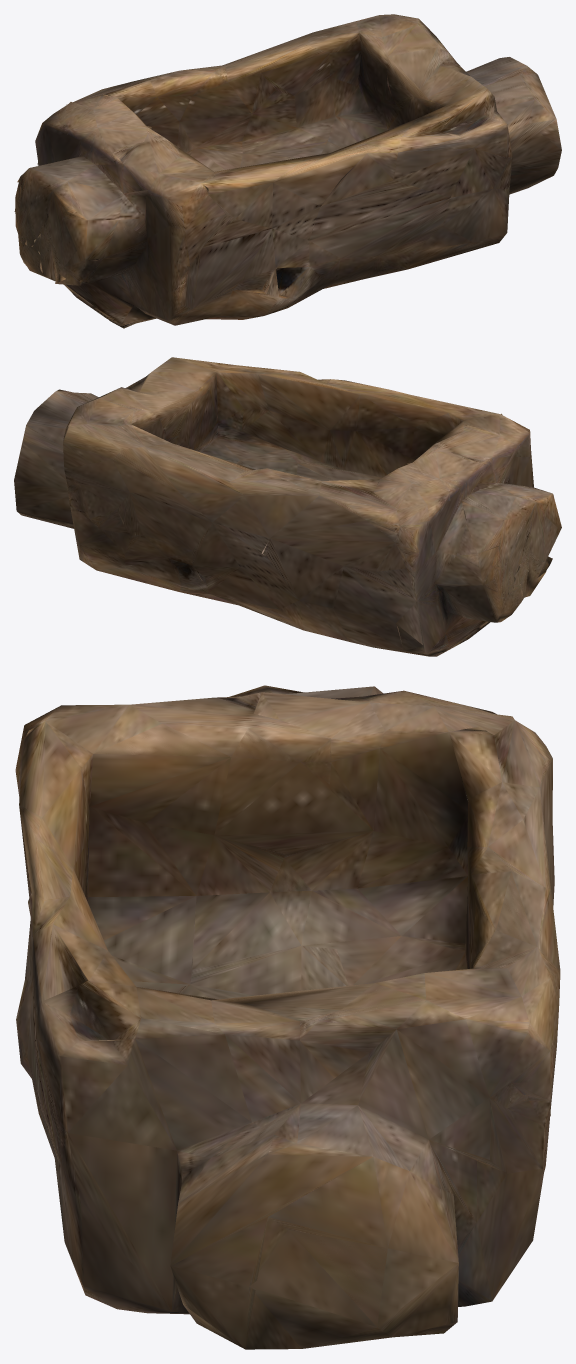
File: bank.glb
3 views of the same model, one above another, from view 1: azimuth 30°, elevation 25°; view 2: azimuth 150°, elevation 25°; view 3: azimuth 270°, elevation 25° (orthographic). The views are drawn at different scales.
Bounding box in the file's own units: 2 × 0.6839 × 0.9919.
Materials: 1 (1 with a texture image).
